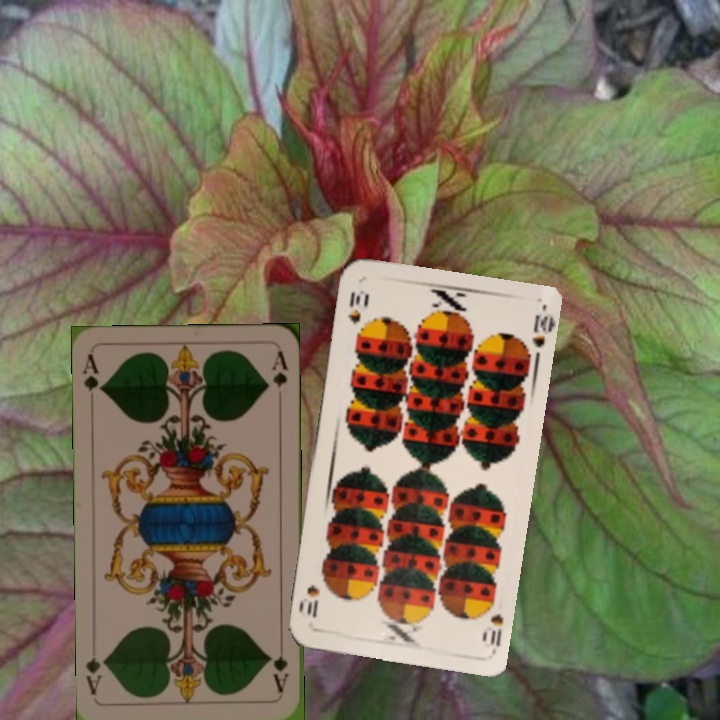GA: (269, 638, 292, 695), (78, 351, 106, 395)
S10: (344, 286, 369, 327), (486, 609, 506, 654)
